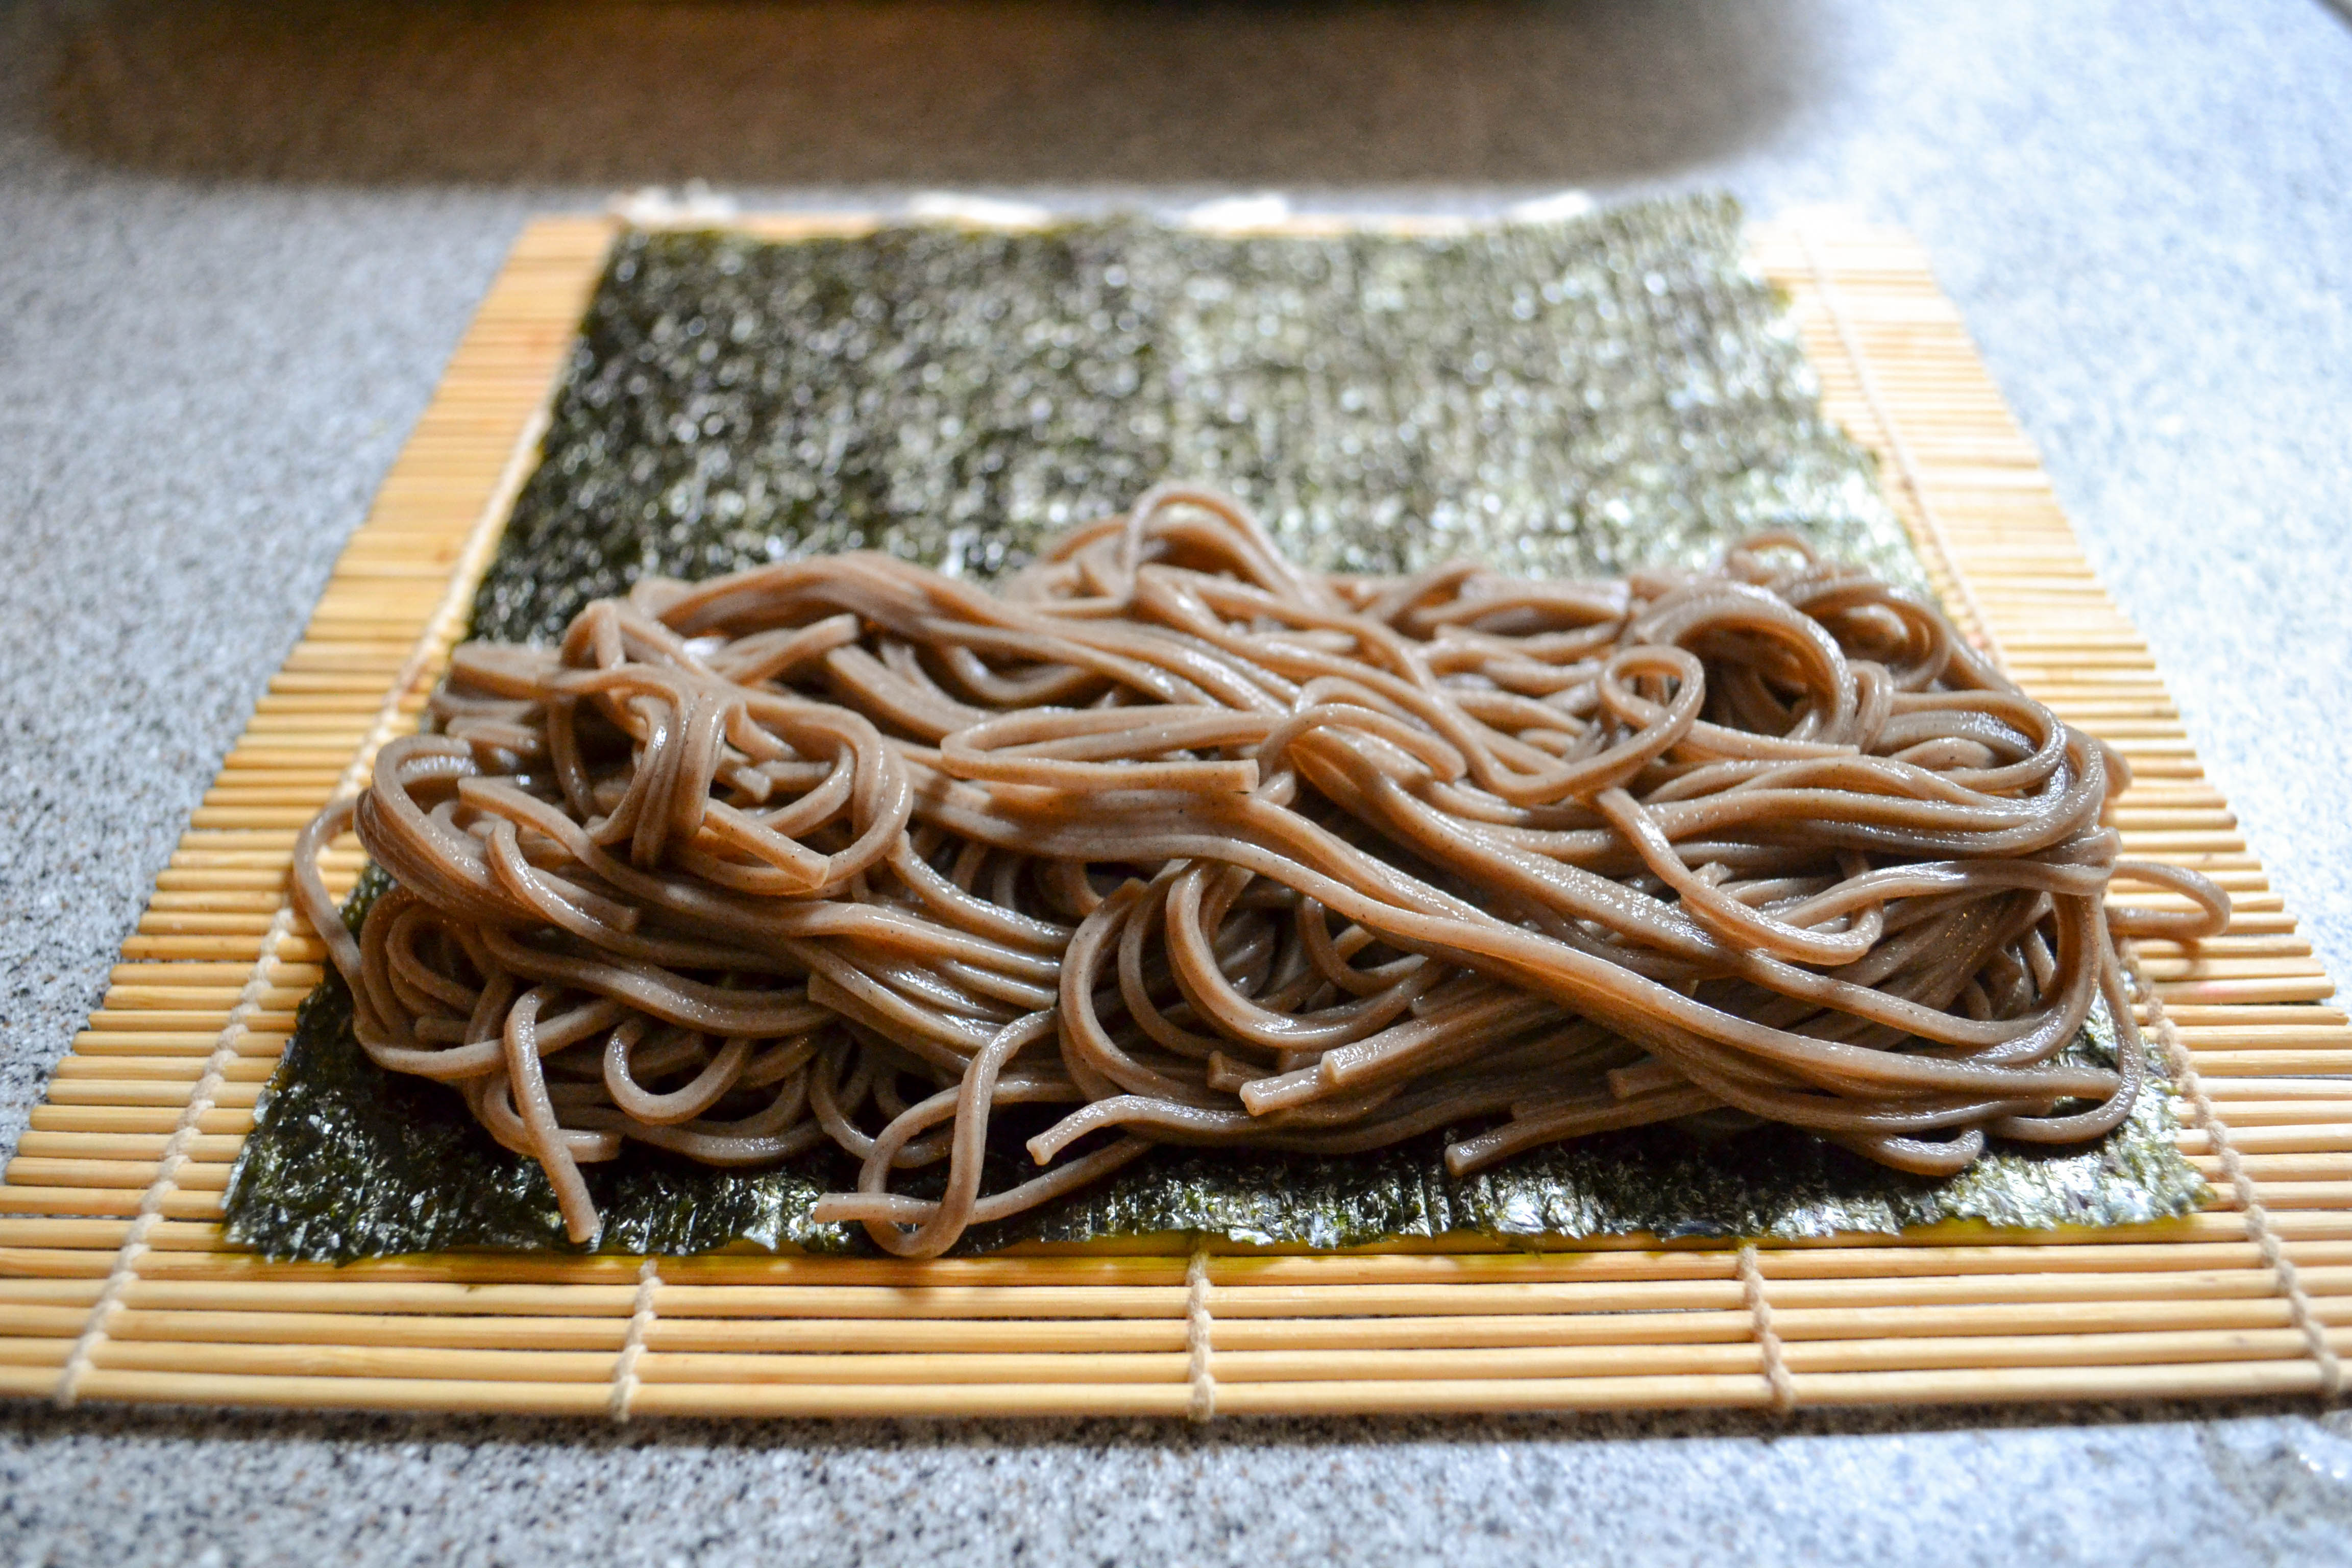Soba: (308, 495, 2257, 1246)
